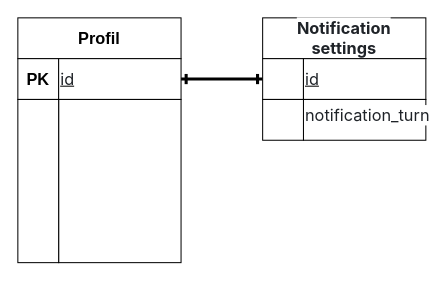
This 448x281 diagram has some shape labels left out. The centre of each missing label's shape, as x and y in pixels:
first_name second_name last_name telephone email path_to_photo is_active: (119,180)
FK: (282,78)
